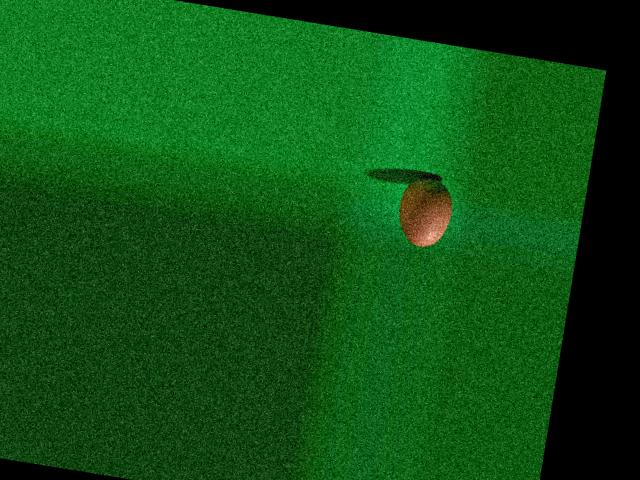egg: (393, 172, 456, 249)
